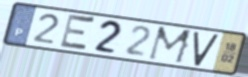2: (91, 19, 124, 57), (122, 25, 155, 59), (31, 13, 62, 46)
E: (57, 12, 98, 54)
M: (146, 25, 196, 66)
V: (192, 31, 222, 68)
